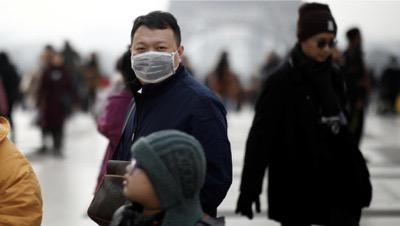with_mask: (128, 40, 178, 84)
without_mask: (121, 159, 150, 203), (305, 34, 337, 63)
